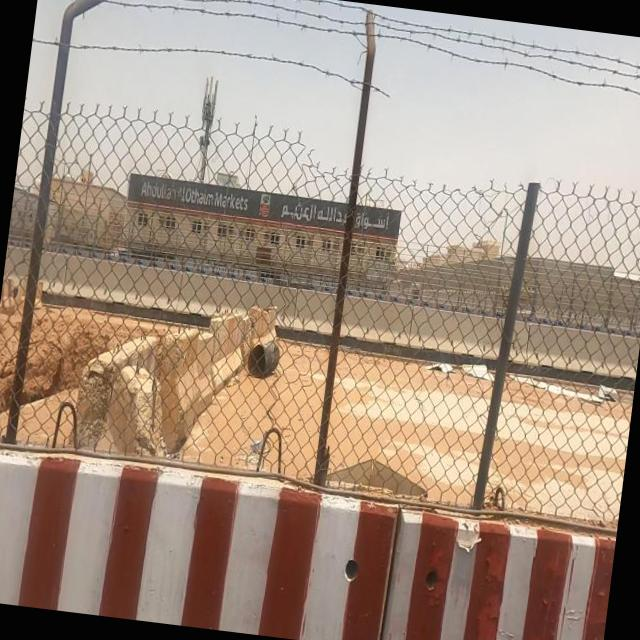debris: (200, 390, 316, 518), (490, 336, 606, 438), (439, 309, 519, 426), (409, 328, 458, 402)
